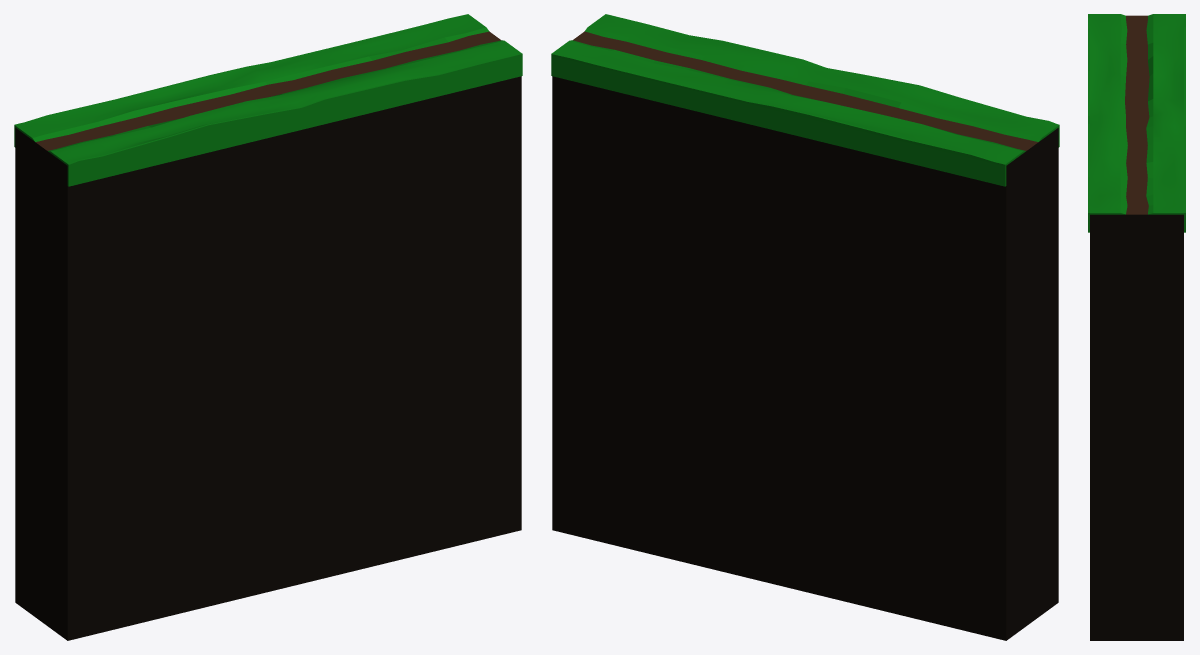
File: blockFlat01.fbx
The picture shows the model from 3 angles, left to right: view 1: azimuth 30°, elevation 25°; view 2: azimuth 150°, elevation 25°; view 3: azimuth 270°, elevation 25°; orthographic projection. The views are drawn at different scales.
Visible parts, largest first — view 1: Box001; view 2: Box001; view 3: Box001.
Boxes of the visible parts, x1,y1,x2,y2 form: Box001: (14, 14, 522, 640); Box001: (551, 14, 1059, 640); Box001: (1088, 14, 1185, 640).
Size of the model in its own units: 50 by 10.41 by 50.76.
